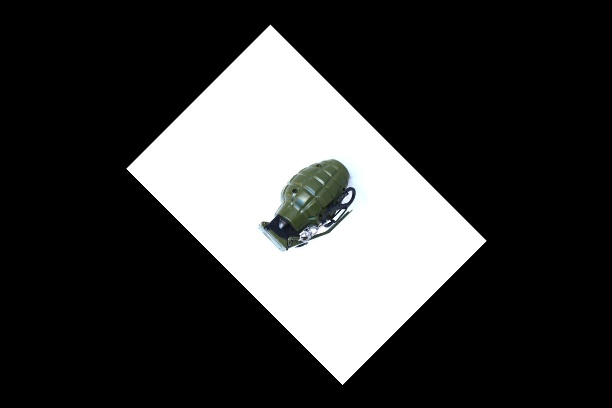e1: (257, 158, 356, 252)
